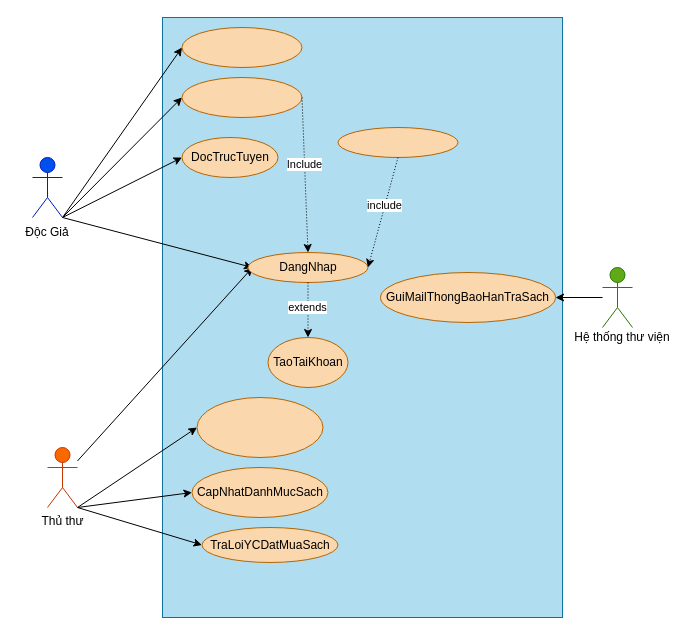
Image size: 699x635. Some labels were removed from this diagram. The centre of each missing label's shape, as x and y in pixels:
"DangKyMuonSach" goes at point 241,97.
"DatMua" goes at point 397,142.
"QuanLyMuonTraSach" goes at point 259,427.
"TimKiemTaiLieu" goes at point 241,47.
